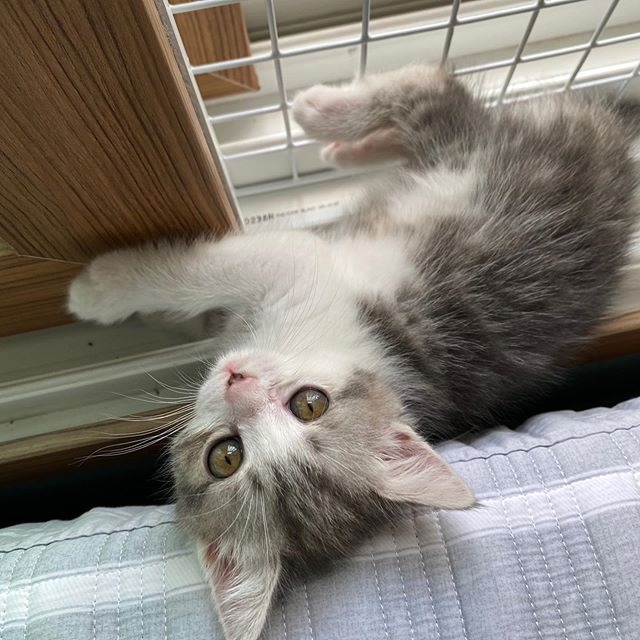cat: (159, 343, 485, 640)
